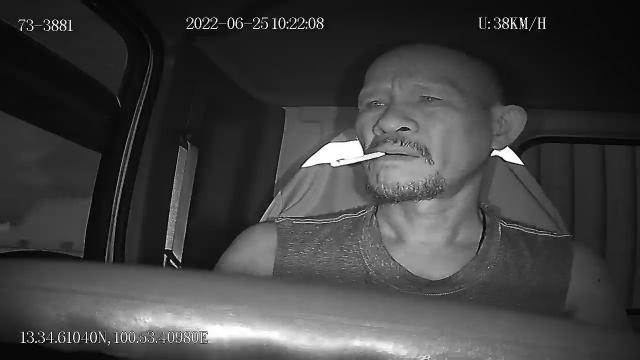SafeDriving: (409, 84, 452, 112), (357, 89, 393, 117)
Smoking: (330, 151, 386, 167)
